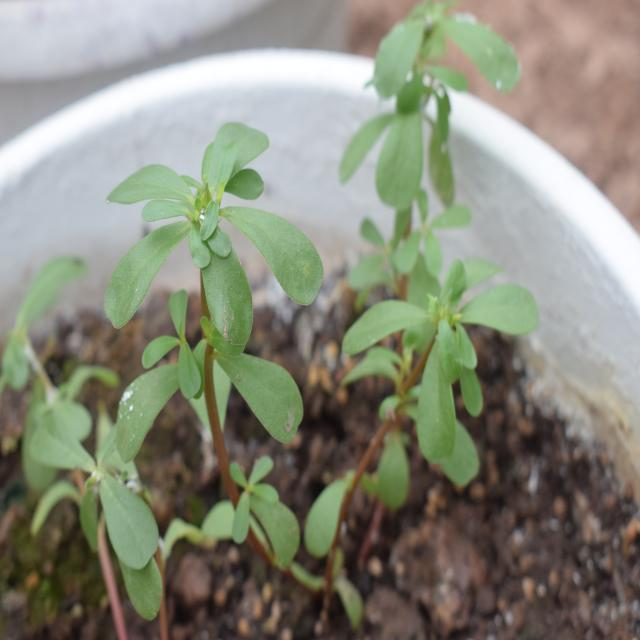purslane: (97, 104, 316, 542), (330, 250, 536, 563), (337, 0, 528, 281)
